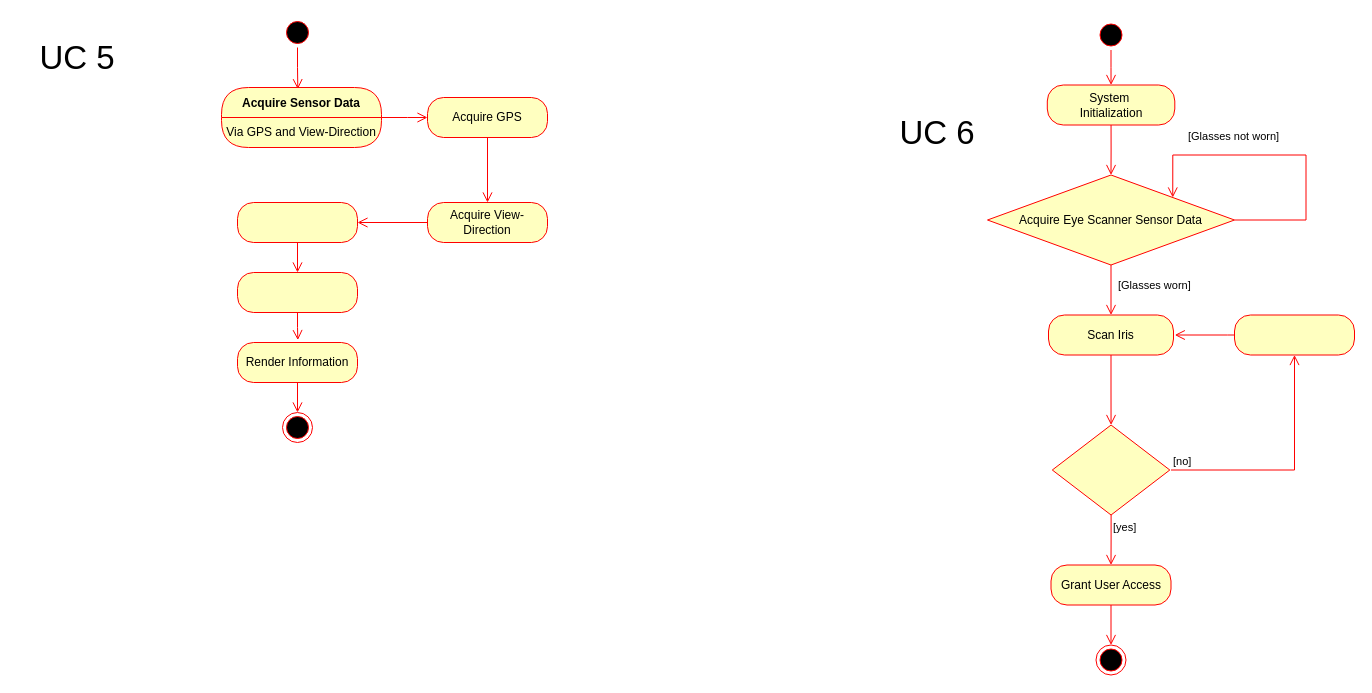
The diagram is 1372 pixels wide and 693 high, and some of its shapes have lost their labels. The shapes that lost their labels are listed below. From the top down, each one's centre as x and y in pixels, then its label:
At pixel 297 222: "Merge Sensor Data".
At pixel 297 292: "Acquire Social Media Posts".
At pixel 1294 334: "Initialize Security Measures".
At pixel 1110 469: "Iris Authentication Successful".
